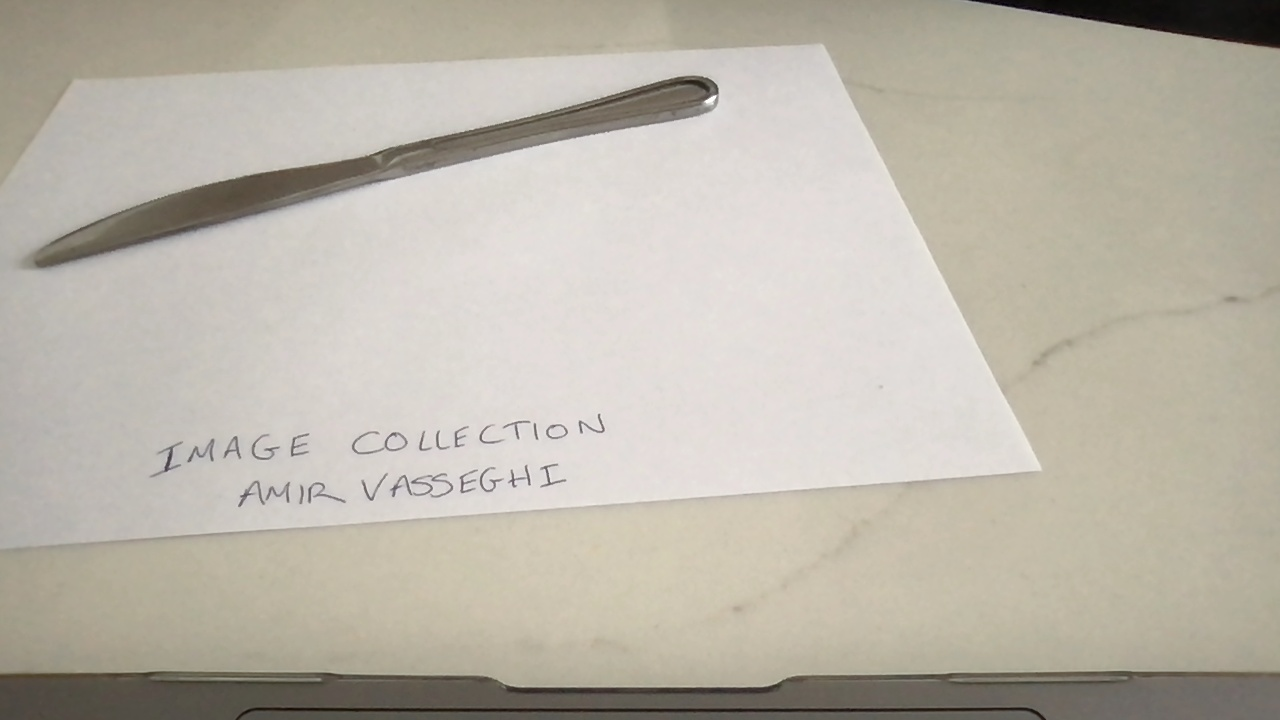knife: (29, 74, 721, 273)
